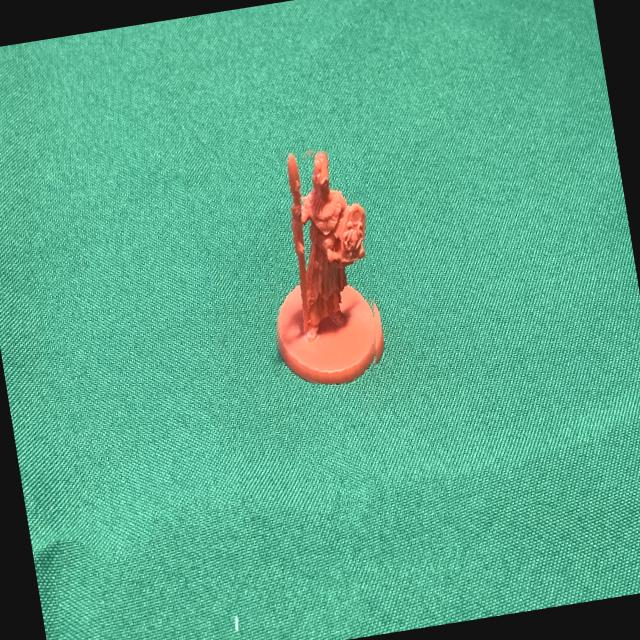amon_follower: (276, 150, 376, 384)
